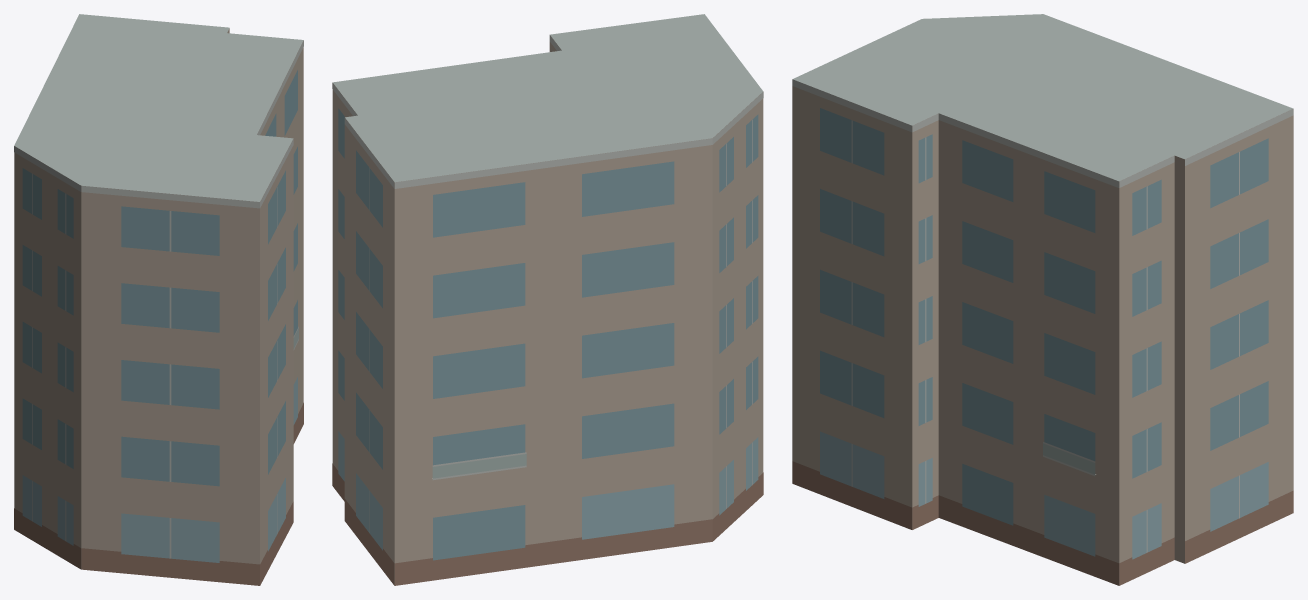
The model's file is survey-upis-32529457.glb.
The picture shows the model from 3 angles, left to right: view 1: azimuth 30°, elevation 25°; view 2: azimuth 150°, elevation 25°; view 3: azimuth 270°, elevation 25°; orthographic projection. The views are drawn at different scales.
Visible parts, largest first — view 1: survey-upis-32529457.tmp; view 2: survey-upis-32529457.tmp; view 3: survey-upis-32529457.tmp.
Part boxes in pixels (<box>): survey-upis-32529457.tmp: <box>14,14,303,585</box>; survey-upis-32529457.tmp: <box>332,14,763,585</box>; survey-upis-32529457.tmp: <box>792,14,1293,585</box>.
Bounding box in the file's own units: 12.97 × 14.6 × 16.4.
